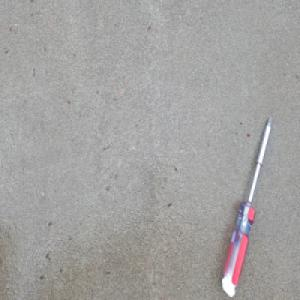Screwdriver: (220, 113, 273, 297)
